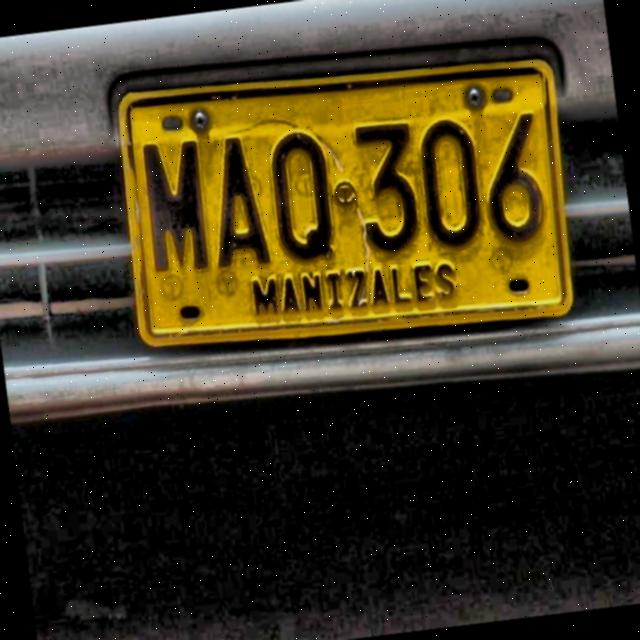plate: (124, 67, 567, 339)
